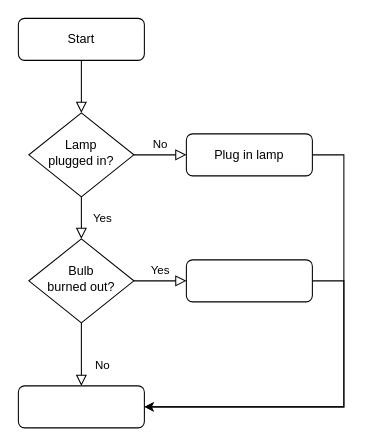
This 371x446 diagram has some shape labels left out. Each missing label, with the centre of its shape:
Done: [80,406]
Replace Bulb: [248,280]
